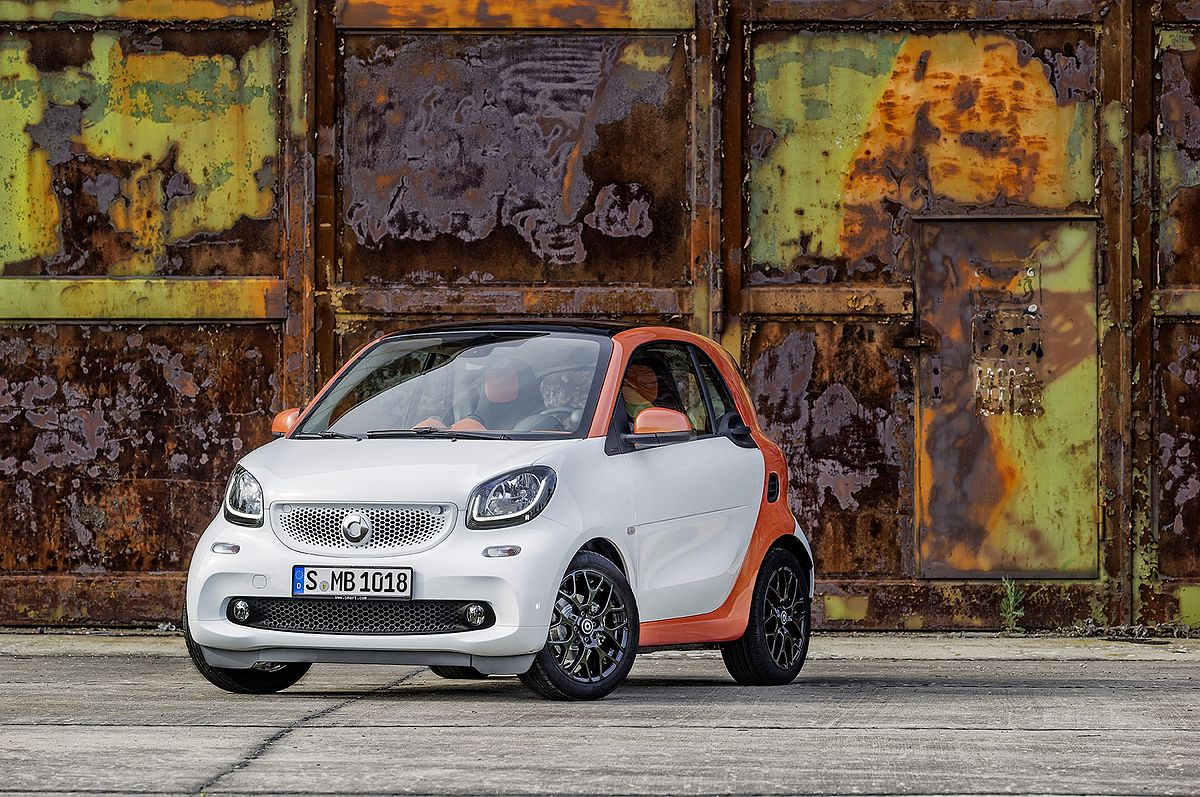Carro: (185, 315, 813, 710)
